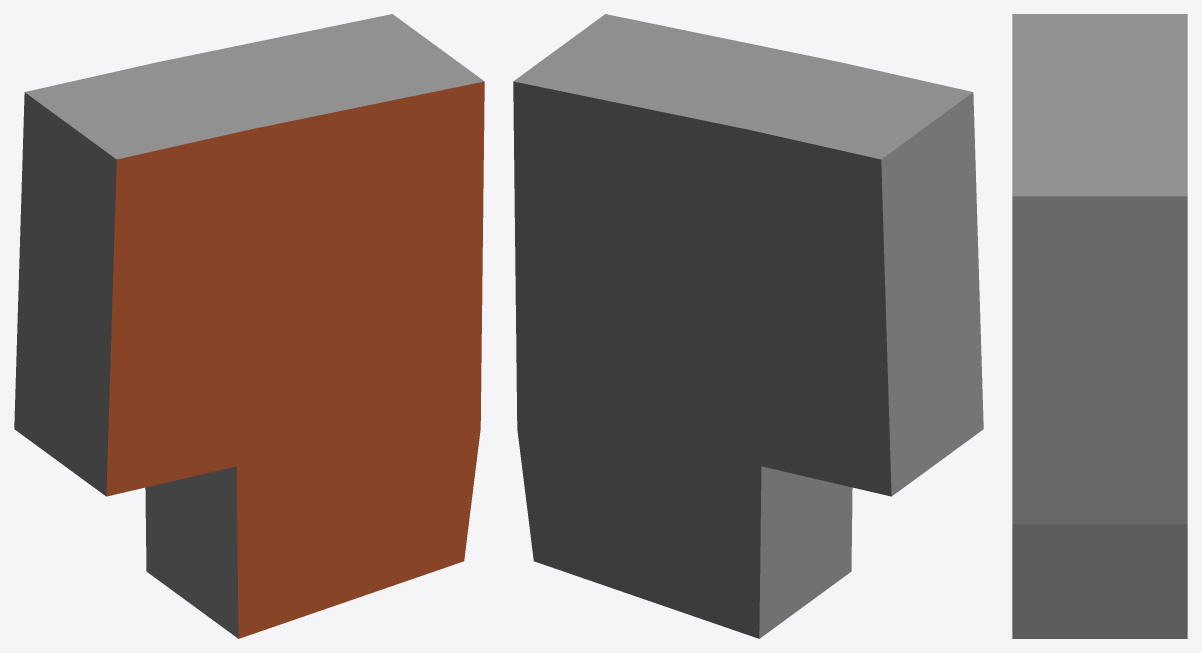
Rendered from construction_3461_assumed_A_Casa_h6m.obj.
3 views of the same model, side by side, from view 1: azimuth 30°, elevation 25°; view 2: azimuth 150°, elevation 25°; view 3: azimuth 270°, elevation 25° (orthographic). The views are drawn at different scales.
Parts seen in each view (by area): view 1: construction_3461_assumed_A_Casa; view 2: construction_3461_assumed_A_Casa; view 3: construction_3461_assumed_A_Casa.
Boxes of the visible parts, bbox=[...] form: construction_3461_assumed_A_Casa: bbox=[14, 14, 484, 638]; construction_3461_assumed_A_Casa: bbox=[513, 14, 983, 638]; construction_3461_assumed_A_Casa: bbox=[1012, 14, 1187, 638].
Size of the model in its own units: 14.22 by 18.29 by 6.
